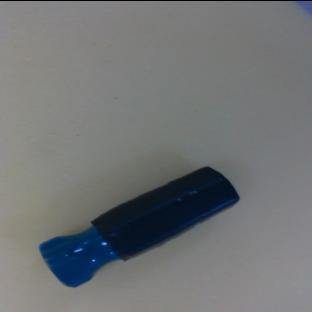part_2_bad: (37, 155, 242, 294)
